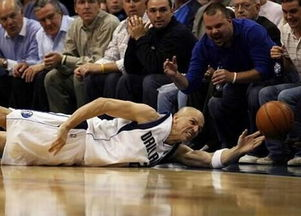10+: (1, 1, 301, 179)
down: (1, 94, 269, 173)
